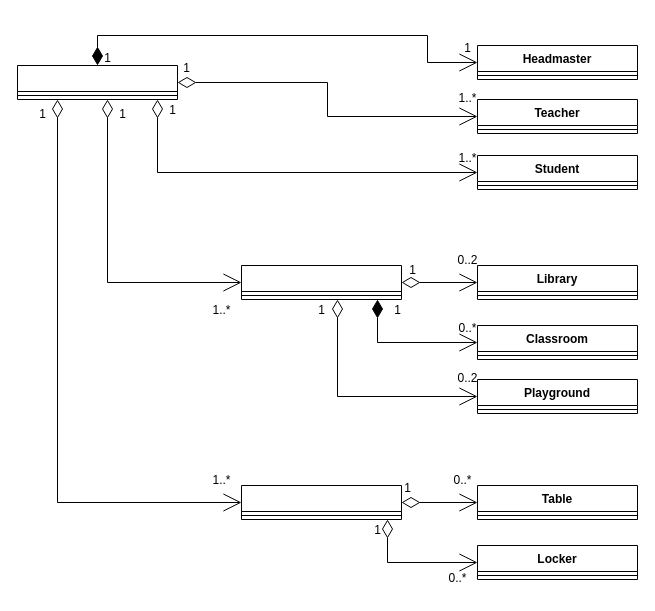
Some shapes in this 655 by 611 pixel diagram are drawn without their labels. The shapes that lost their labels are listed below. From the top down, each one's centre as x and y in pixels, then its label:
At [97,82]: "School".
At [321,282]: "Piece".
At [321,502]: "Equipement".
